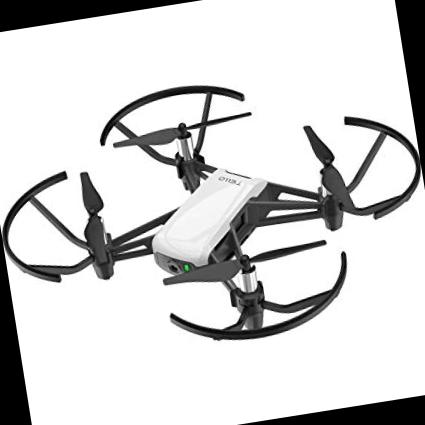drone: (0, 44, 425, 392)
